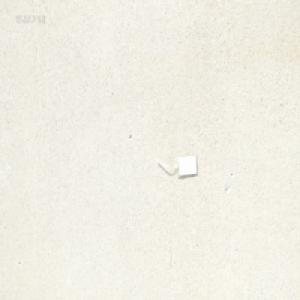LuggageTag: (156, 153, 199, 179)
